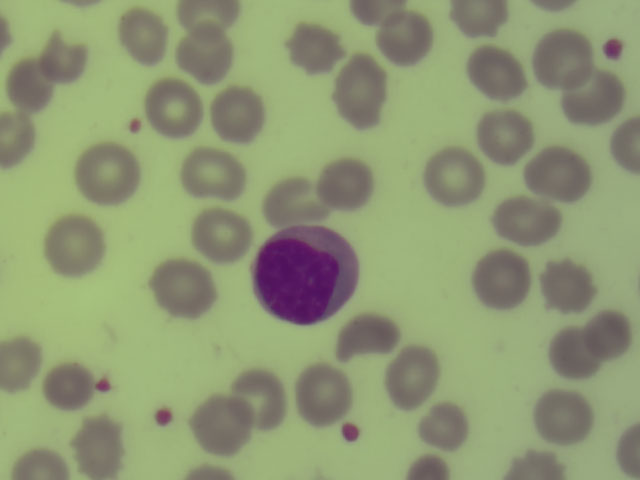Platelets: (599, 32, 630, 62), (151, 403, 178, 432), (338, 419, 363, 445), (92, 373, 116, 399), (124, 114, 145, 137)
RBC: (332, 51, 389, 132), (73, 407, 123, 480), (493, 195, 562, 247), (331, 311, 400, 360), (474, 249, 531, 306), (536, 385, 593, 442), (583, 306, 640, 363), (543, 326, 600, 383), (540, 257, 597, 314), (528, 145, 585, 202), (563, 69, 620, 126), (535, 30, 592, 87), (425, 148, 482, 205), (475, 107, 532, 164), (416, 394, 473, 451), (383, 347, 440, 404), (294, 366, 351, 423), (233, 369, 290, 426), (190, 392, 247, 449), (39, 358, 96, 415), (154, 260, 211, 317), (193, 205, 250, 262), (46, 217, 103, 274), (77, 145, 134, 202), (183, 144, 240, 201), (317, 155, 374, 212), (468, 43, 525, 100), (374, 10, 431, 67), (285, 22, 342, 79), (210, 85, 267, 142), (145, 80, 202, 137), (36, 27, 93, 84), (1, 58, 58, 115), (115, 7, 172, 64), (178, 24, 235, 81), (260, 180, 332, 223), (1, 332, 43, 391), (173, 1, 247, 34), (445, 1, 510, 36), (500, 448, 565, 480), (1, 110, 38, 166), (608, 115, 640, 178), (12, 446, 68, 480), (609, 421, 640, 480), (345, 1, 413, 27), (401, 450, 452, 480)
WBC: (251, 226, 351, 329)
